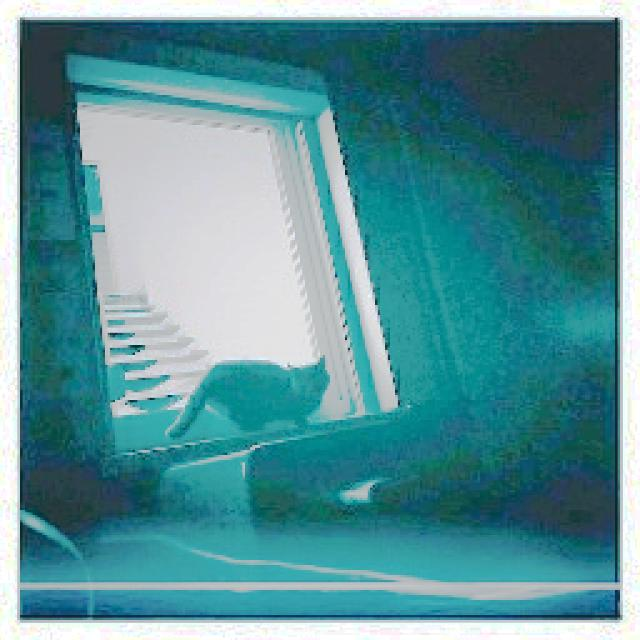cat: (160, 348, 332, 447)
